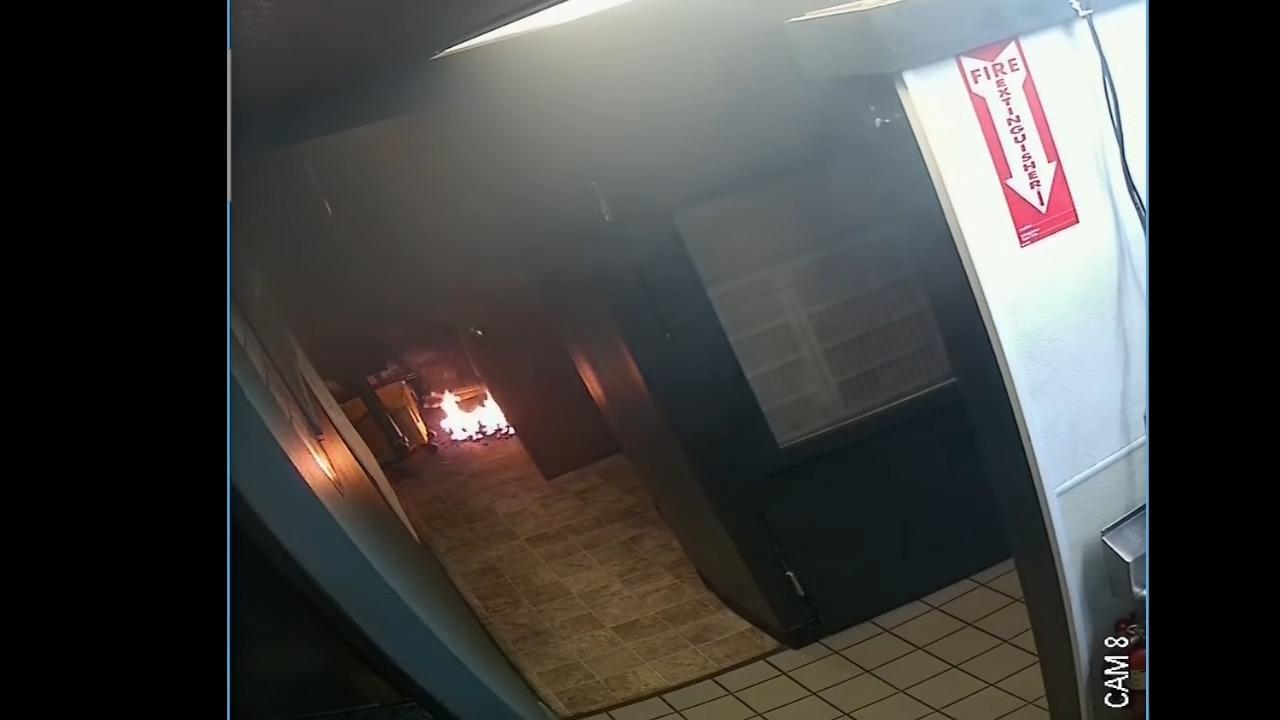fire: (440, 389, 515, 440)
